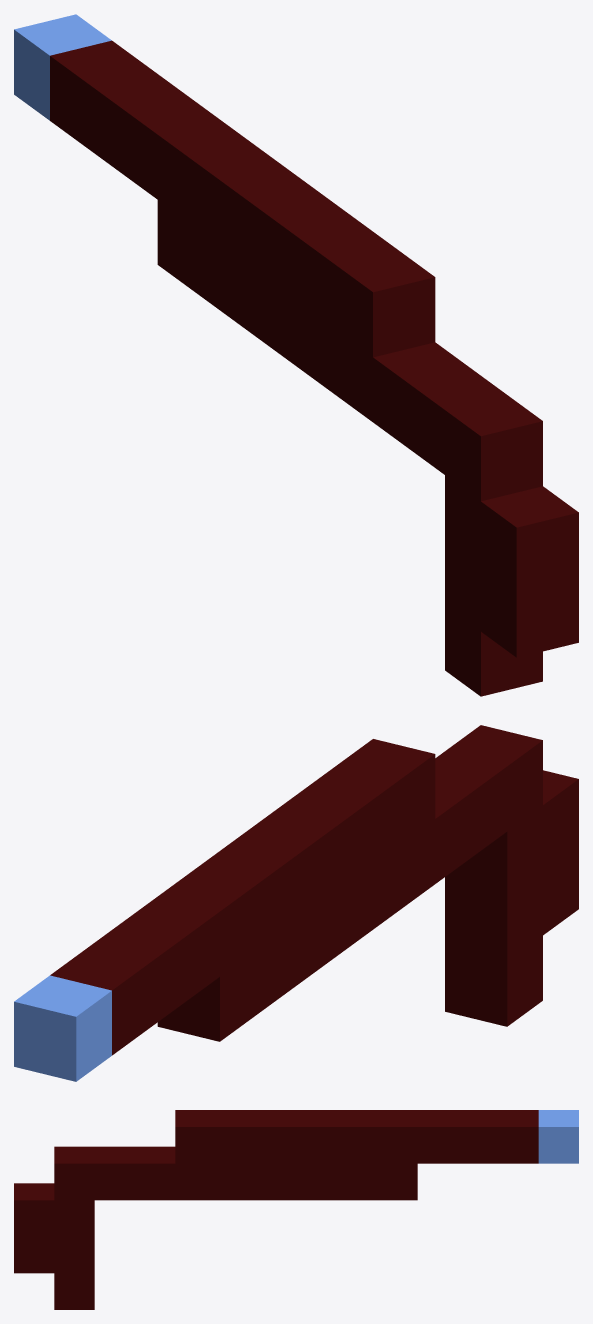
Rendered from Other11.fbx.
The picture shows the model from 3 angles, top to bottom: view 1: azimuth 30°, elevation 25°; view 2: azimuth 150°, elevation 25°; view 3: azimuth 270°, elevation 25°; orthographic projection. The views are drawn at different scales.
Parts seen in each view (by area): view 1: Other11; view 2: Other11; view 3: Other11.
Part boxes in pixels (x1,y1,x2,y2): Other11: [14, 14, 578, 696]; Other11: [14, 725, 578, 1081]; Other11: [14, 1110, 578, 1309].
Bounding box in the file's own units: 5 × 25 × 70.
